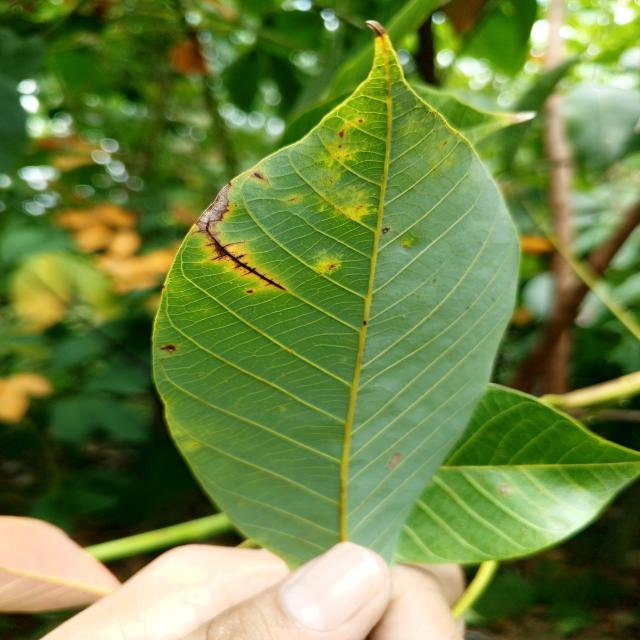Colletotrichum: (382, 228, 389, 234), (403, 245, 407, 248)
Corynespora: (200, 220, 285, 291)
Leaf-Blight: (196, 183, 230, 227)
